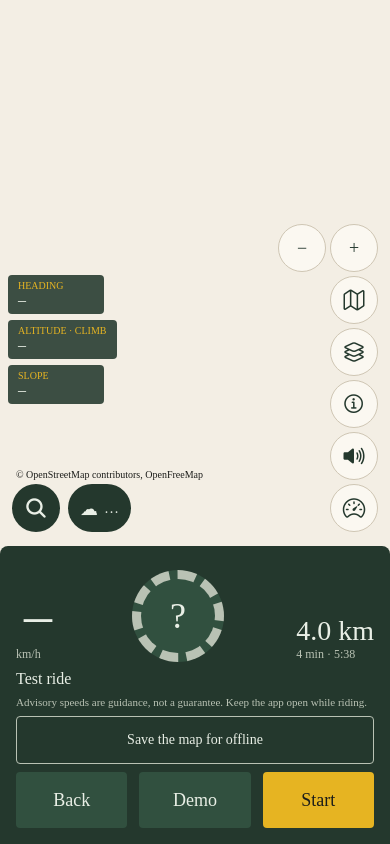
Test: moving at speed, the skip is still there and still asks first
Click the button "Start": (318, 800) top-left (263, 772), bottom-right (374, 828)
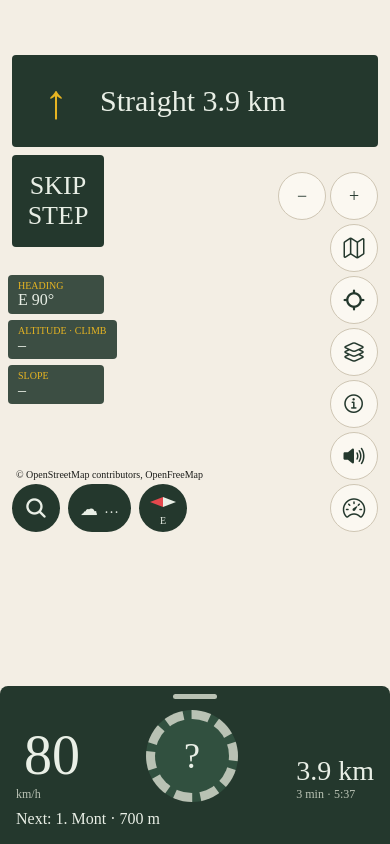
Click the button with aria-label "Skip 1. Mont": (58, 201) top-left (12, 155), bottom-right (104, 247)
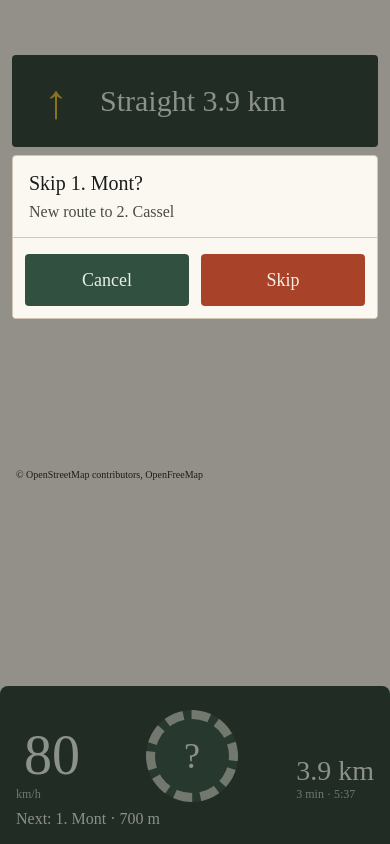
expect the text "Skip 1. Mont?" is shown: met, box top-left (29, 172), bottom-right (143, 194)
